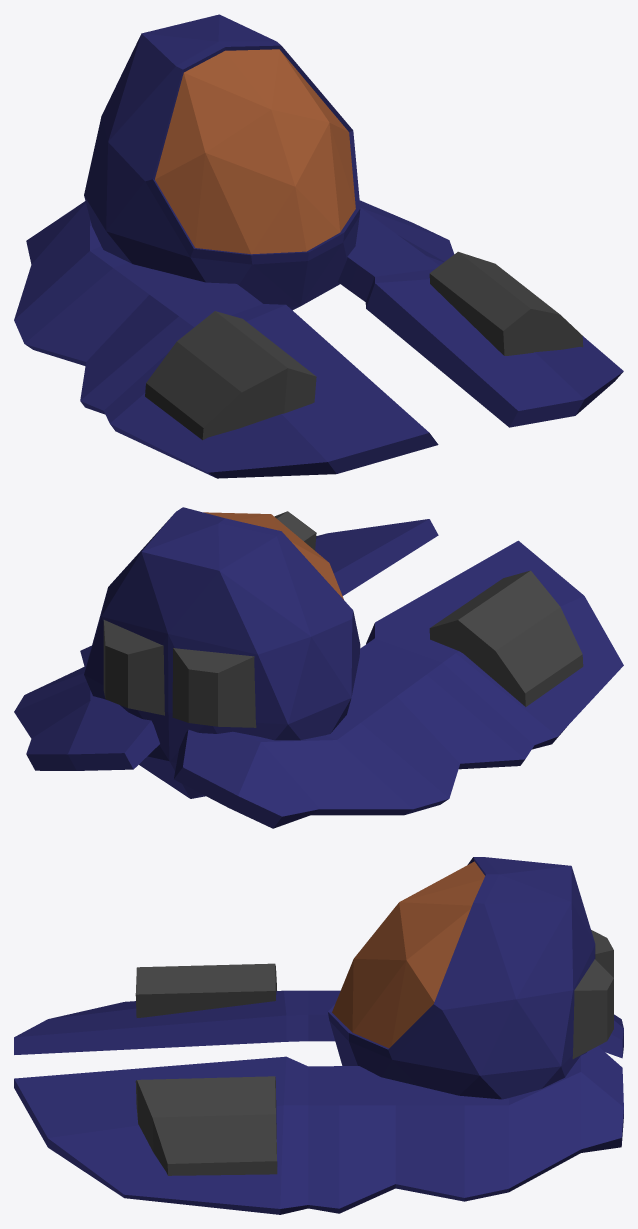
The model's file is Ravager.fbx.
3 renders of one model, top to bottom at view 1: azimuth 30°, elevation 25°; view 2: azimuth 150°, elevation 25°; view 3: azimuth 270°, elevation 25°, orthographic. The views are drawn at different scales.
Visible parts, largest first — view 1: Alas, Capsula, MotoresDelante; view 2: Alas, Capsula, MotoresDelante, MotoresDetras; view 3: Alas, Capsula, MotoresDelante, MotoresDetras.
Part boxes in pixels (bbox=[...]): Alas: bbox=[14, 200, 623, 478]; Capsula: bbox=[84, 14, 360, 310]; MotoresDelante: bbox=[145, 251, 583, 440]; Alas: bbox=[14, 519, 623, 828]; Capsula: bbox=[84, 507, 360, 798]; MotoresDelante: bbox=[274, 511, 583, 706]; MotoresDetras: bbox=[103, 620, 256, 727]; Alas: bbox=[14, 990, 623, 1214]; Capsula: bbox=[328, 857, 595, 1099]; MotoresDelante: bbox=[135, 963, 277, 1175]; MotoresDetras: bbox=[572, 930, 613, 1058].
Size of the model in its own units: 92.85 by 52.19 by 115.
